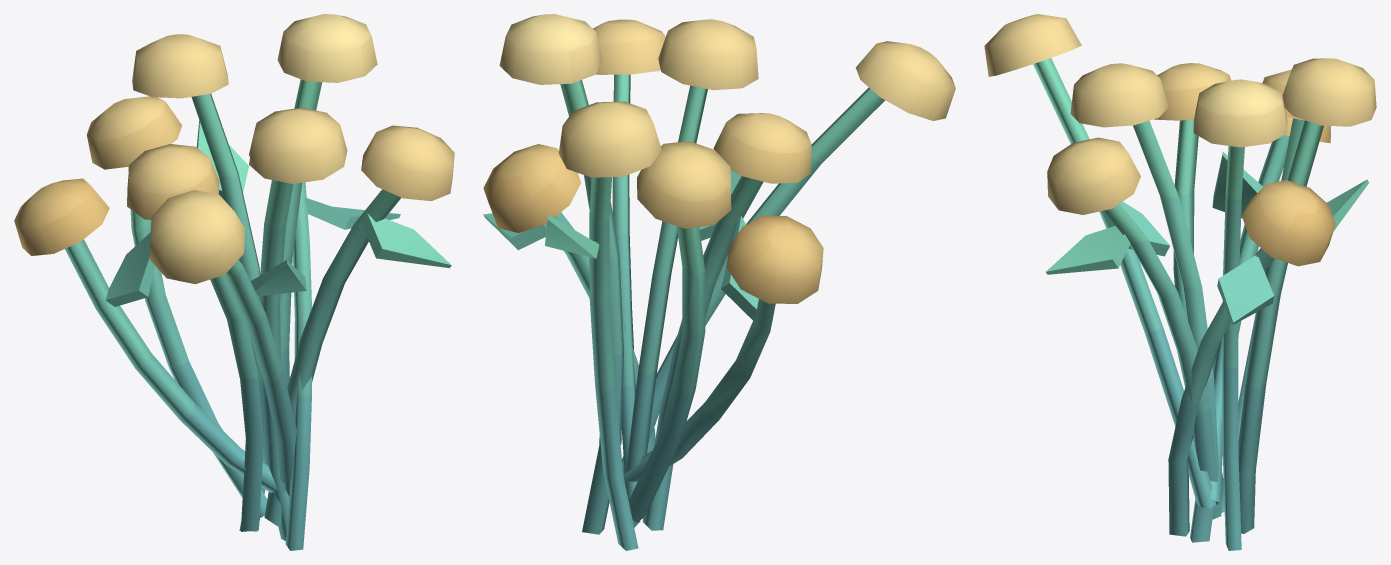
The model's file is dandelion_yellow.glb.
3 views of the same model, side by side, from view 1: azimuth 30°, elevation 25°; view 2: azimuth 150°, elevation 25°; view 3: azimuth 270°, elevation 25° (orthographic). The views are drawn at different scales.
Parts seen in each view (by area): view 1: Dandelion_Yellow.001; view 2: Dandelion_Yellow.001; view 3: Dandelion_Yellow.001.
Part boxes in pixels (<box>): Dandelion_Yellow.001: <box>14,14,454,550</box>; Dandelion_Yellow.001: <box>483,14,955,550</box>; Dandelion_Yellow.001: <box>984,14,1376,550</box>.
Bounding box in the file's own units: 0.2821 × 0.3738 × 0.2771.
